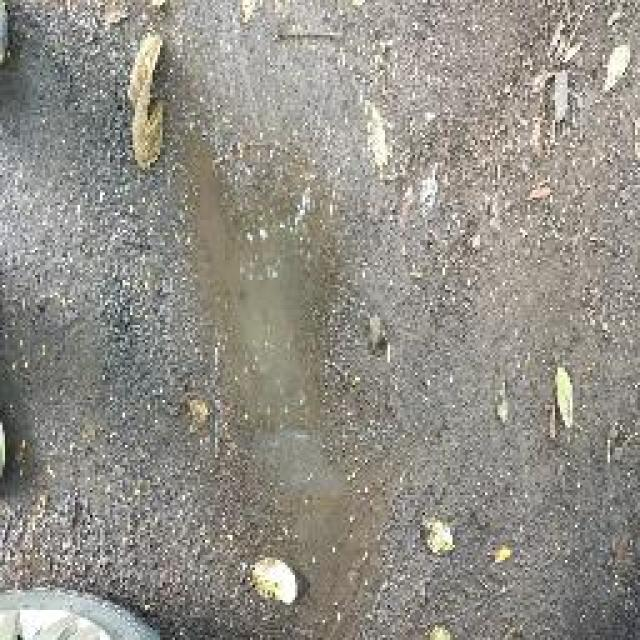puddle: (199, 178, 348, 501)
